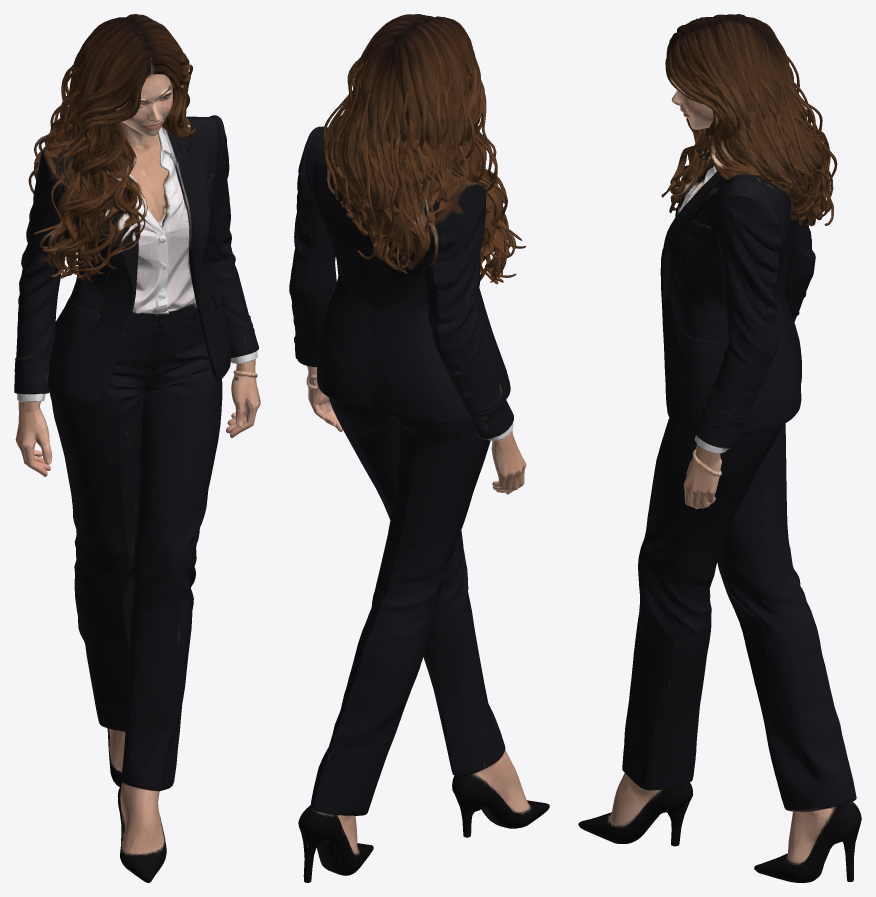
The model's file is ALMA_ORIGINAL_COLOR.glb.
3 views of the same model, side by side, from view 1: azimuth 30°, elevation 25°; view 2: azimuth 150°, elevation 25°; view 3: azimuth 270°, elevation 25° (orthographic). The views are drawn at different scales.
Parts seen in each view (by area): view 1: output_unwrapped; view 2: output_unwrapped; view 3: output_unwrapped.
Boxes of the visible parts, <box> form: output_unwrapped: <box>14,14,260,882</box>; output_unwrapped: <box>289,14,549,882</box>; output_unwrapped: <box>578,14,861,882</box>.
Bounding box in the file's own units: 0.5629 × 1.9 × 0.5816.
1 material, 1 textured.
